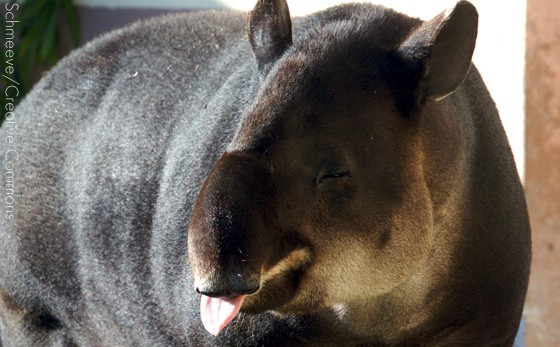Anta: (21, 5, 536, 335)
